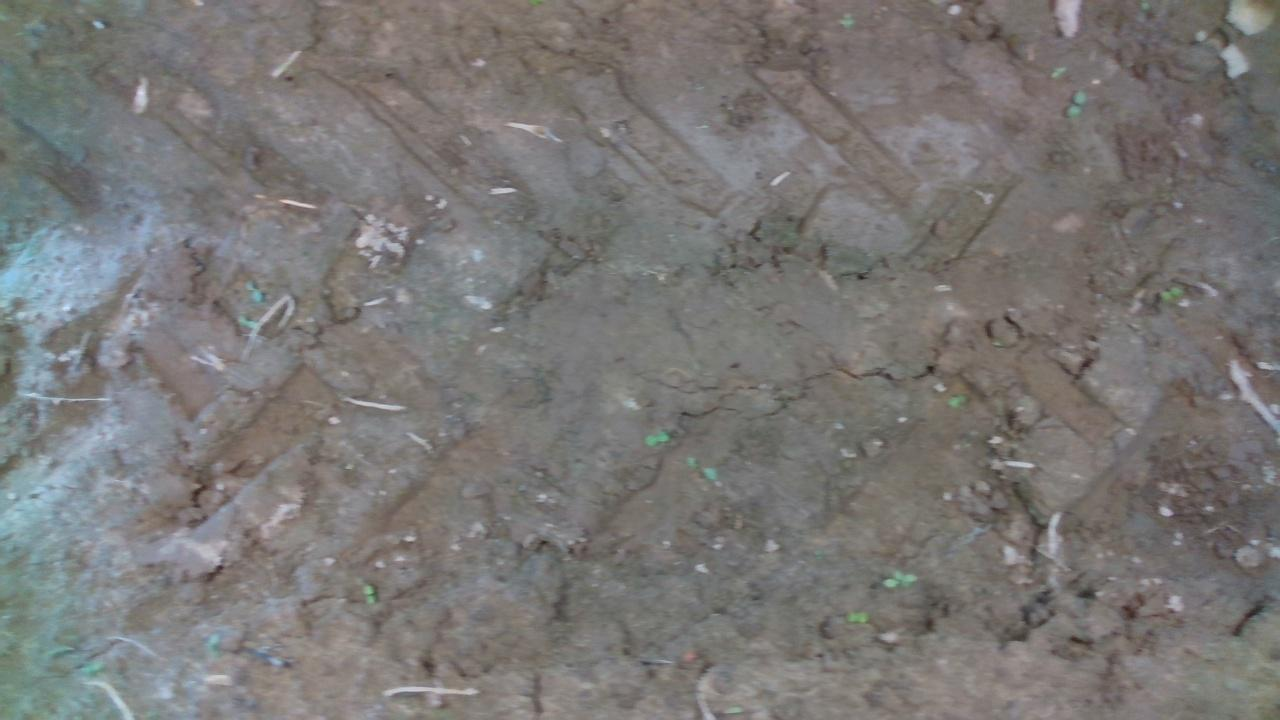weed: (879, 566, 919, 590), (1064, 88, 1085, 119), (1156, 282, 1184, 300), (642, 429, 669, 446), (361, 582, 376, 605)
